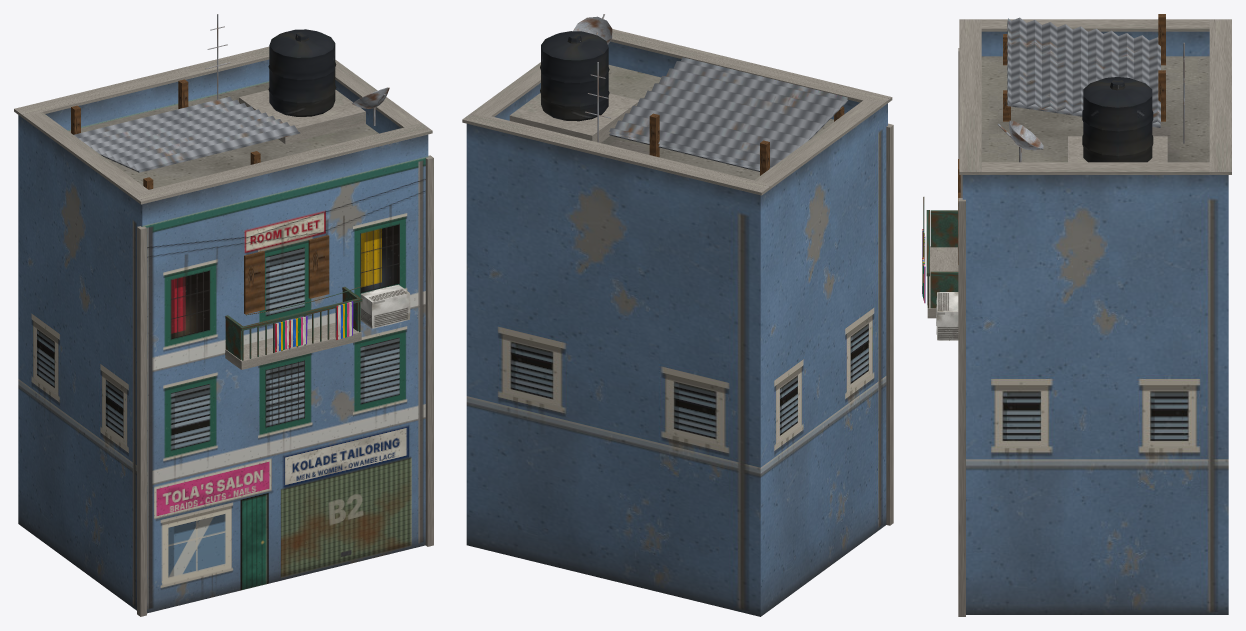
Rendered from env_building_d.glb.
The picture shows the model from 3 angles, left to right: view 1: azimuth 30°, elevation 25°; view 2: azimuth 150°, elevation 25°; view 3: azimuth 270°, elevation 25°; orthographic projection. The views are drawn at different scales.
Visible parts, largest first — view 1: env_building_d_body; view 2: env_building_d_body; view 3: env_building_d_body.
Boxes of the visible parts, <box> form: env_building_d_body: <box>14,14,433,616</box>; env_building_d_body: <box>462,14,893,616</box>; env_building_d_body: <box>922,14,1231,616</box>.
Size of the model in its own units: 3.28 by 5.14 by 2.8.
1 material, 1 textured.
